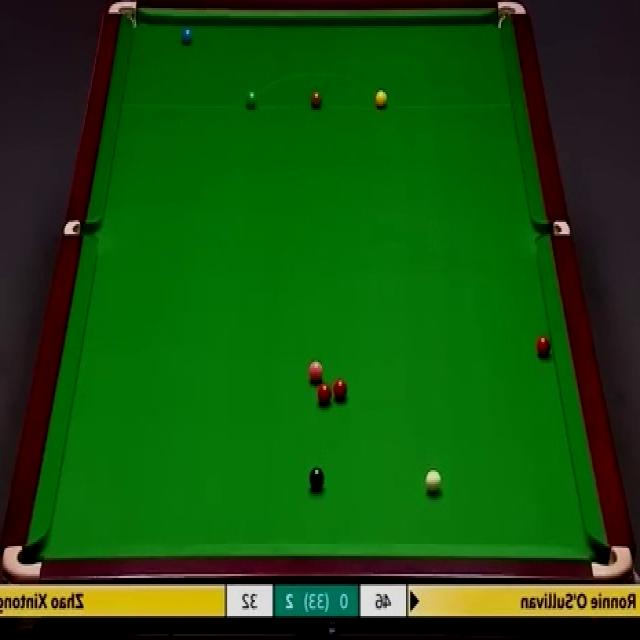black-ball: (308, 465, 326, 490)
blue-ball: (181, 27, 194, 44)
brown-ball: (309, 88, 324, 110)
green-ball: (245, 90, 260, 110)
pink-ball: (308, 359, 324, 384)
red-ball: (535, 336, 552, 358), (316, 383, 332, 406), (332, 378, 347, 399)
white-ball: (424, 468, 442, 494)
yellow-ball: (375, 88, 388, 109)
